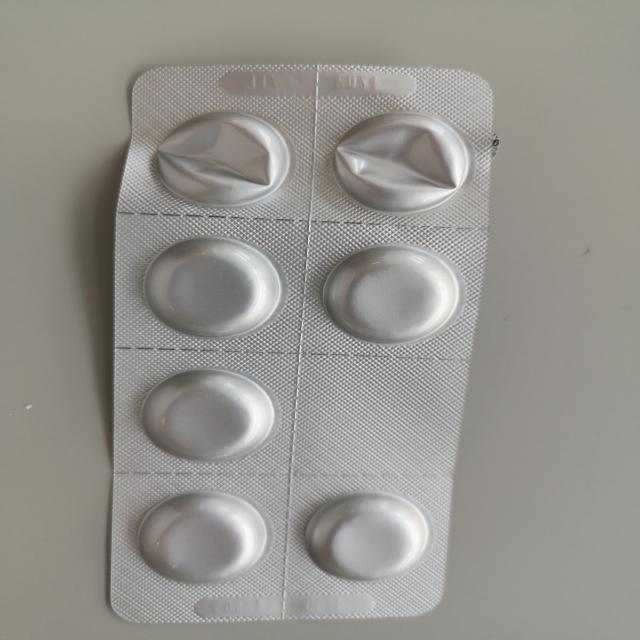Empty: (328, 107, 473, 215), (148, 107, 293, 210)
Pill: (136, 231, 288, 342), (318, 240, 467, 346), (134, 363, 281, 466), (127, 486, 274, 585), (301, 488, 434, 585)
